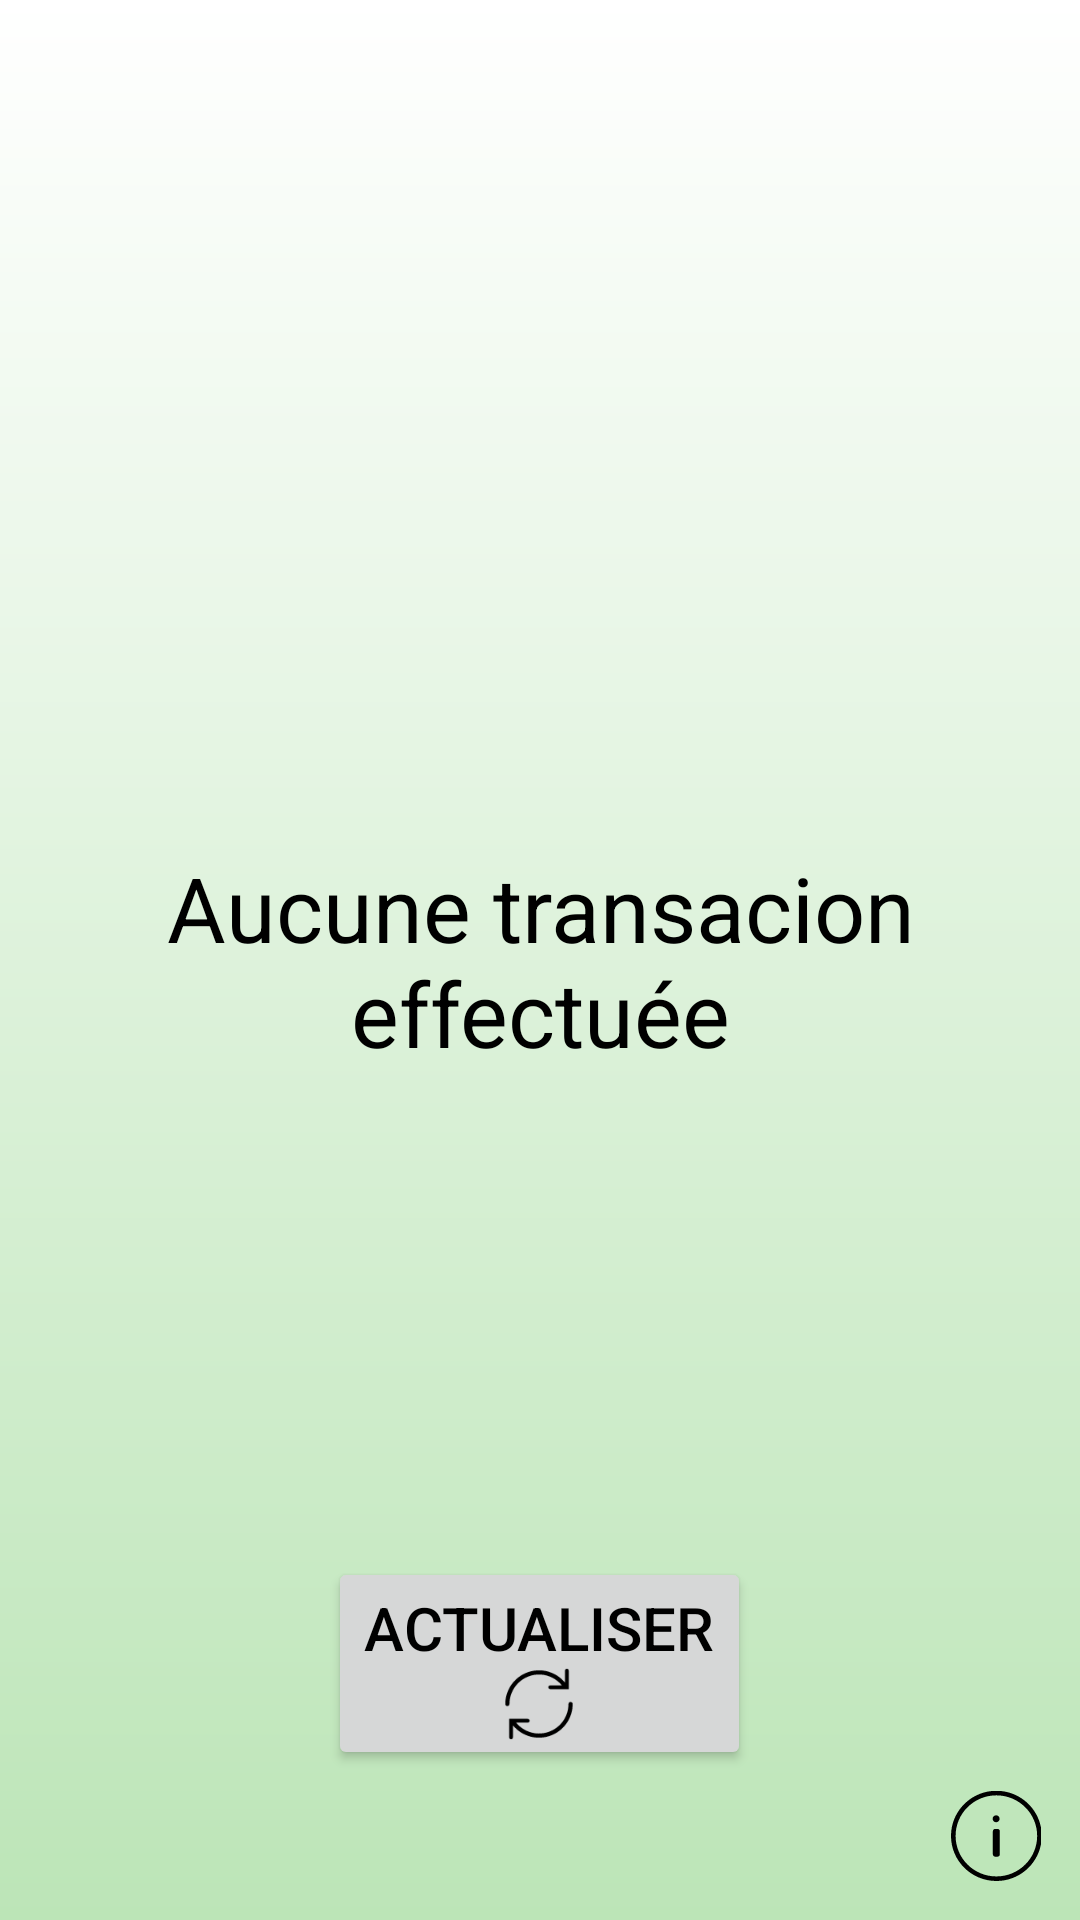

Locate icon controls on the screen. Image size 1080px×1920px, boxes as (x1, y1, x2, y2).
infobulle: (951, 1791, 1041, 1881)
